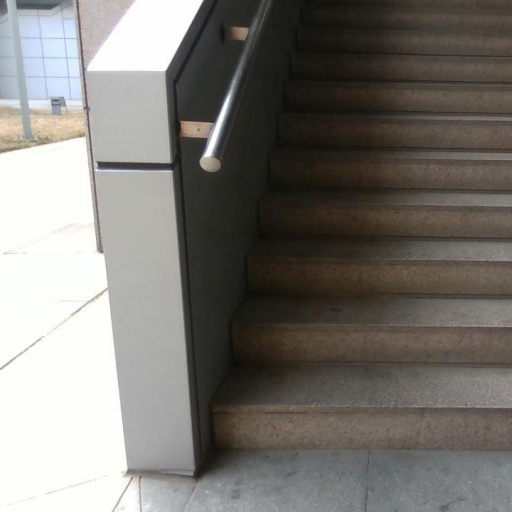Stairs: (213, 0, 512, 450)
